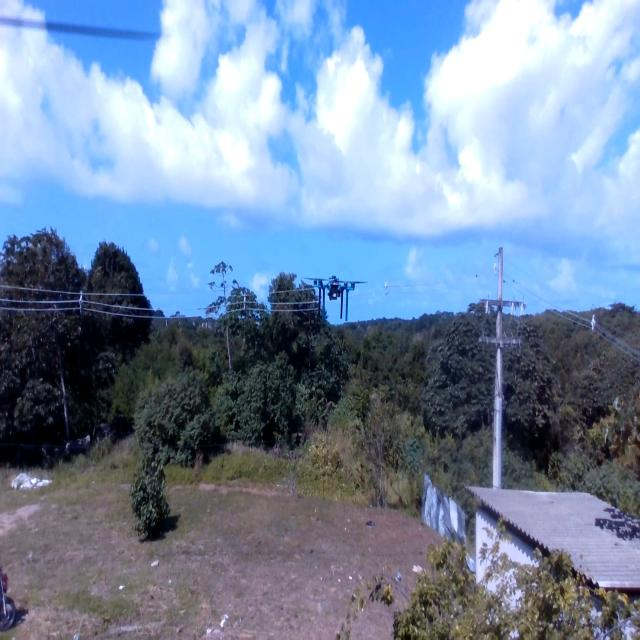-uav-: (298, 259, 372, 335)
